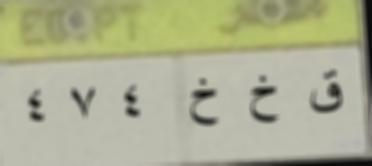4: (22, 83, 51, 132), (119, 78, 146, 124)
7: (66, 84, 100, 127)
khaa: (245, 72, 284, 131), (185, 75, 222, 135)
qaaf: (308, 66, 346, 120)
